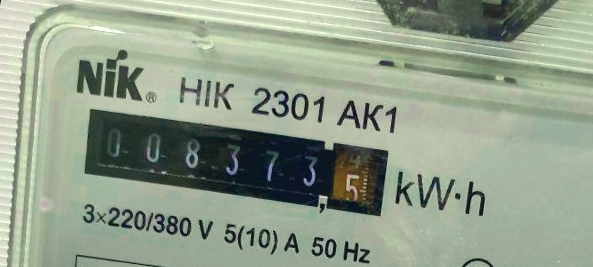0: (100, 123, 125, 161), (140, 127, 164, 166)
3: (295, 150, 322, 190), (218, 139, 244, 179)
4: (343, 149, 364, 171)
5: (340, 170, 363, 202)
7: (257, 144, 281, 185)
8: (179, 133, 205, 172)
screen: (72, 98, 398, 231)
